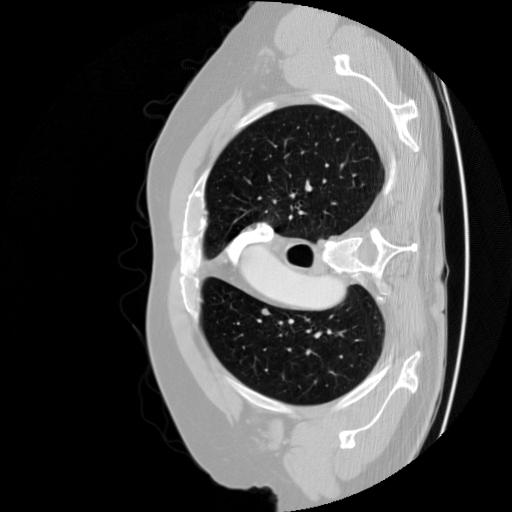nodule: (258, 305, 271, 318)
